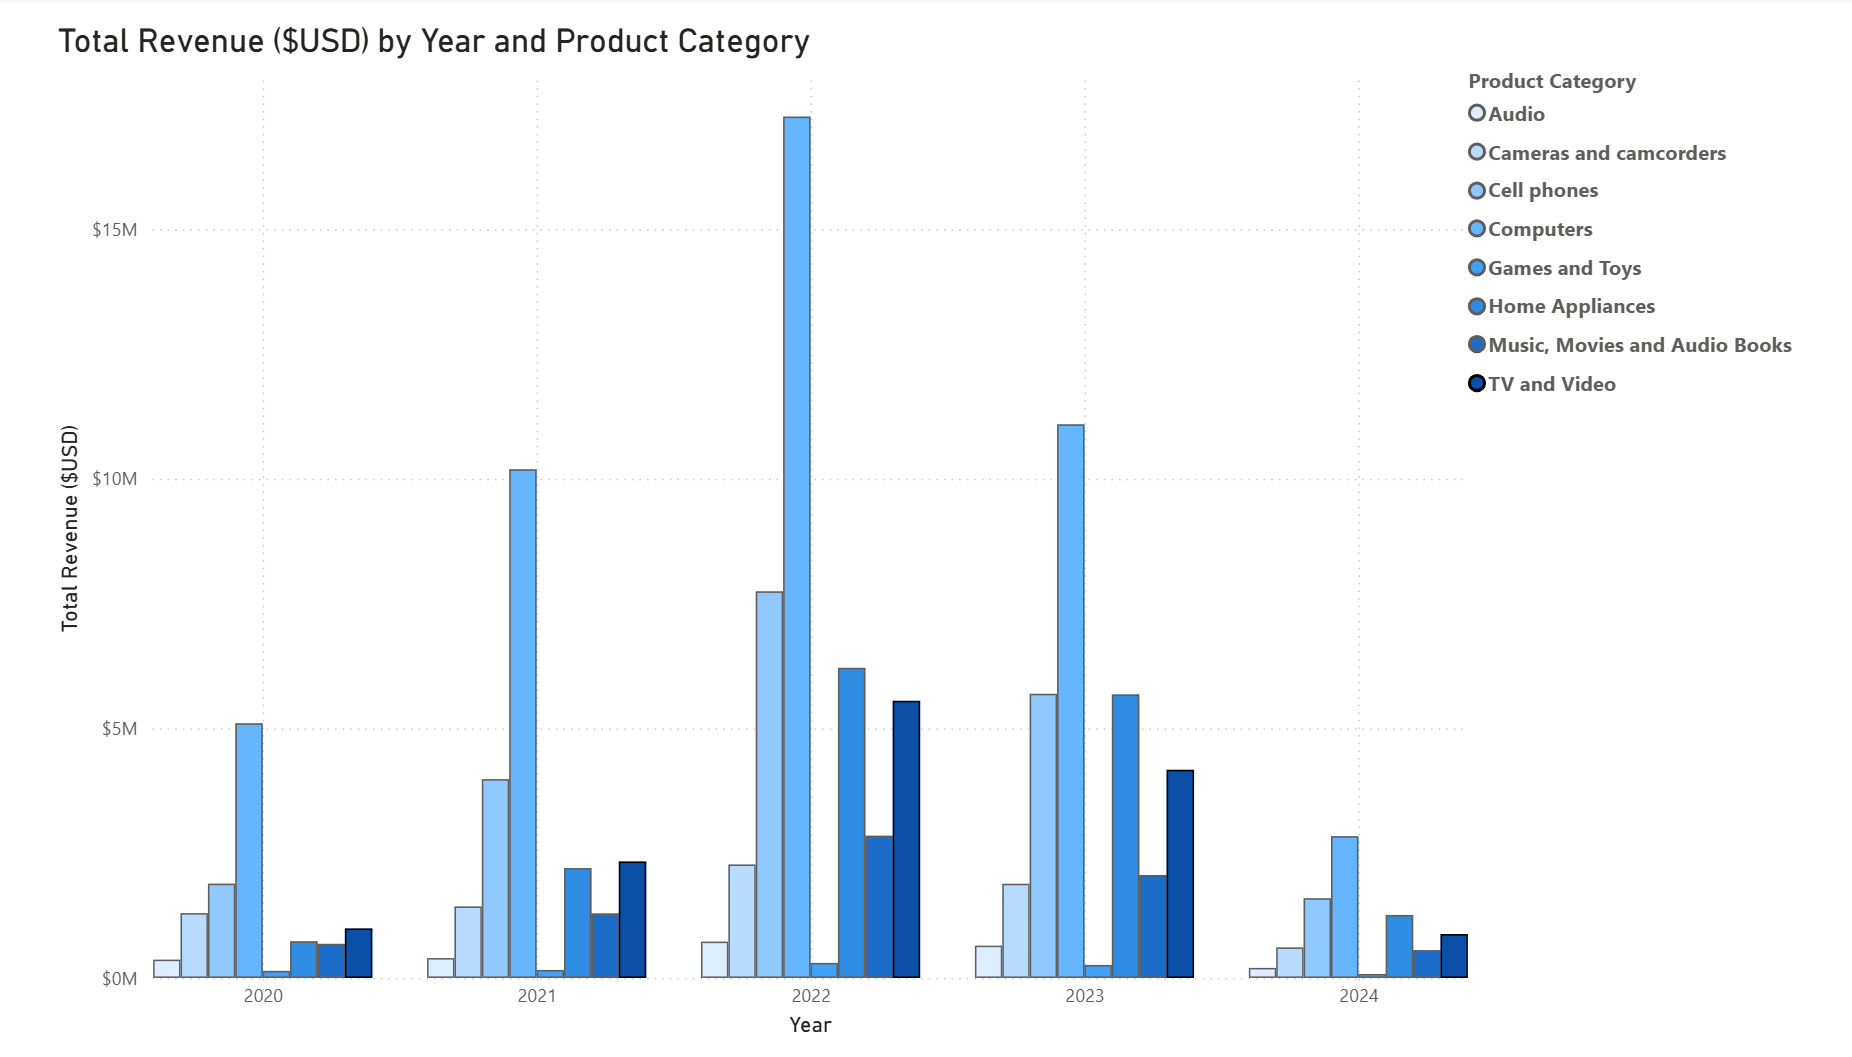

What the dashboard file says about the page in this screenshot:
{"tool":"powerbi","page":{"name":"category_yearly_revenue","canvas":[1280,720],"ordinal":2},"visuals":[{"type":"clusteredColumnChart","fields":{"Category":["public vw_category_sales_trend.year"],"Y":["Sum(public vw_category_sales_trend.net_revenue)"],"Series":["public vw_category_sales_trend.product_category"]},"box":[79.5,16.7,1158.6,672],"z":0}]}

Visuals, with their boxes in screenshot pixels (x1, y1, x2, y2), scaled from the page's 1280x720 canvas onto the 1852x1057 screenshot:
clusteredColumnChart - public vw_category_sales_trend.year x Sum(public vw_category_sales_trend.net_revenue): {"x1": 115, "y1": 25, "x2": 1791, "y2": 1011}
